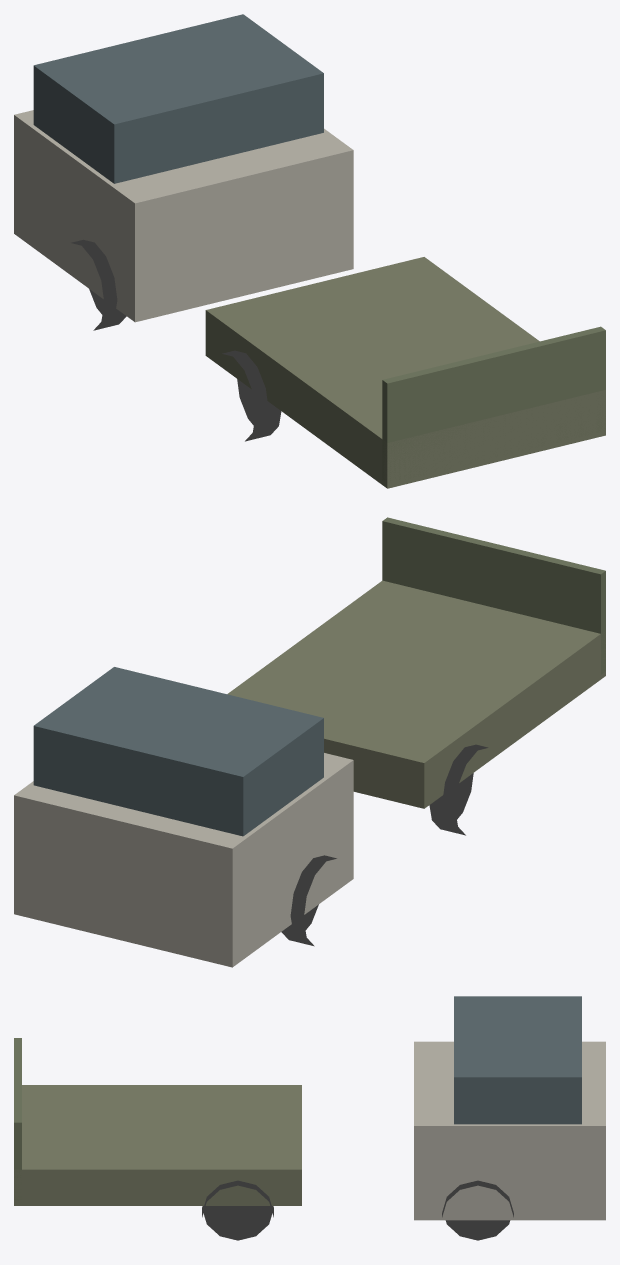
File: v_kamaz.glb
The picture shows the model from 3 angles, top to bottom: view 1: azimuth 30°, elevation 25°; view 2: azimuth 150°, elevation 25°; view 3: azimuth 270°, elevation 25°; orthographic projection. The views are drawn at different scales.
Visible parts, largest first — view 1: body; view 2: body; view 3: body.
Part boxes in pixels (x1,y1,x2,y2): body: (14,14,605,488); body: (14,517,605,967); body: (14,996,605,1240).
Bounding box in the file's own units: 2.8 × 2.3 × 7.4.
